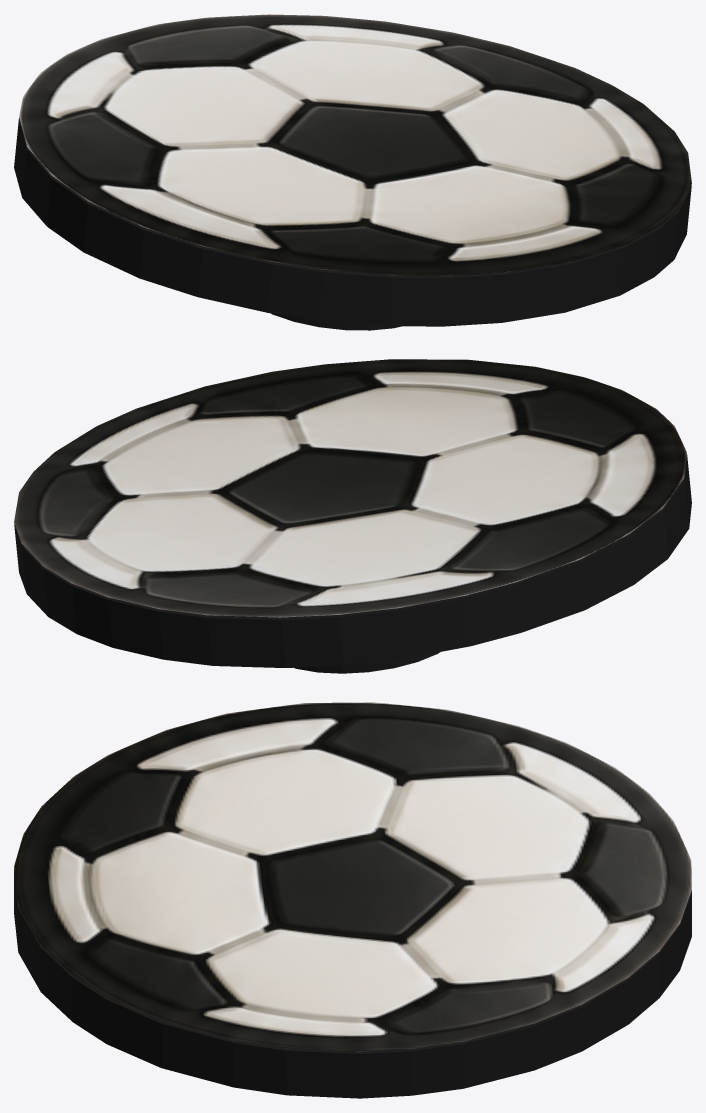
Rendered from sports-soccer-ball.glb.
3 views of the same model, one above another, from view 1: azimuth 30°, elevation 25°; view 2: azimuth 150°, elevation 25°; view 3: azimuth 270°, elevation 25° (orthographic).
Parts seen in each view (by area): view 1: SPORTS_Soccer_Ball_MODEL; view 2: SPORTS_Soccer_Ball_MODEL; view 3: SPORTS_Soccer_Ball_MODEL.
Part boxes in pixels (box(x1,y1,x2,y2)): SPORTS_Soccer_Ball_MODEL: box(14, 14, 691, 330); SPORTS_Soccer_Ball_MODEL: box(14, 359, 691, 673); SPORTS_Soccer_Ball_MODEL: box(14, 702, 691, 1098).
Bounding box in the file's own units: 0.3322 × 0.1002 × 0.3321.
Materials: 3 (1 with a texture image).
